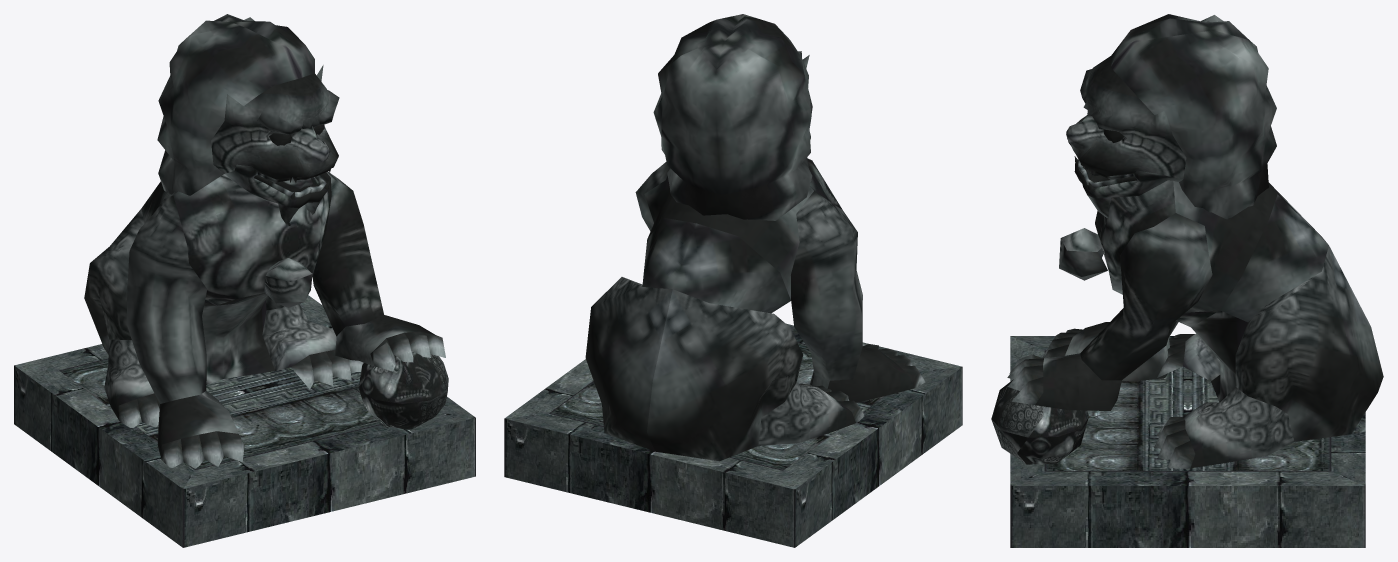
3 renders of one model, left to right at view 1: azimuth 30°, elevation 25°; view 2: azimuth 150°, elevation 25°; view 3: azimuth 270°, elevation 25°, orthographic. The views are drawn at different scales.
Visible parts, largest first — view 1: s_s少林石狮01_0, s_s少林石狮01_1; view 2: s_s少林石狮01_0, s_s少林石狮01_1; view 3: s_s少林石狮01_0, s_s少林石狮01_1.
Part boxes in pixels (x1=…): s_s少林石狮01_0: x1=84, y1=14, x2=448, y2=468; s_s少林石狮01_1: x1=14, y1=295, x2=475, y2=547; s_s少林石狮01_0: x1=585, y1=14, x2=925, y2=461; s_s少林石狮01_1: x1=504, y1=323, x2=962, y2=547; s_s少林石狮01_0: x1=991, y1=14, x2=1383, y2=468; s_s少林石狮01_1: x1=1010, y1=336, x2=1365, y2=547.
Bounding box in the file's own units: 48.34 × 67.74 × 53.35.
